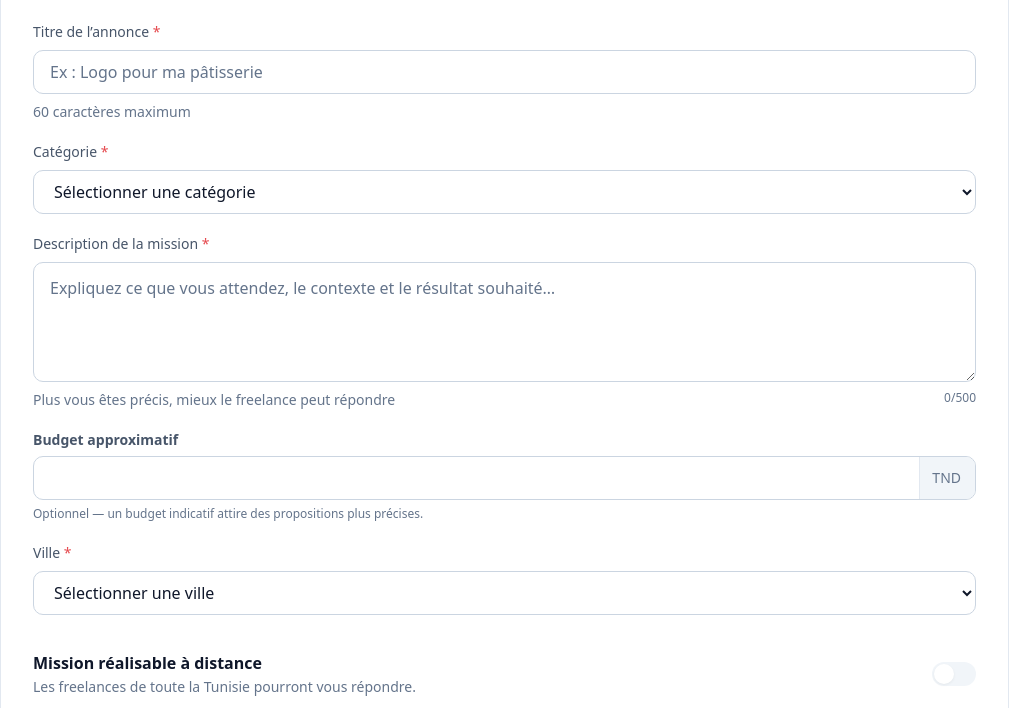
Test case: AnnonceForm — category is chosen, never pre-selected › starts on the placeholder, and submitting without choosing one is refused client-side
This screenshot has width=1024, height=708.
Expected: the dropdown labelled "Catégorie" shows "Sélectionner une catégorie", [33, 170, 976, 214]
Type "LOGO 3D" into the field labelled "Titre de l’annonce". click: [504, 72]
box: [50, 60, 959, 84]
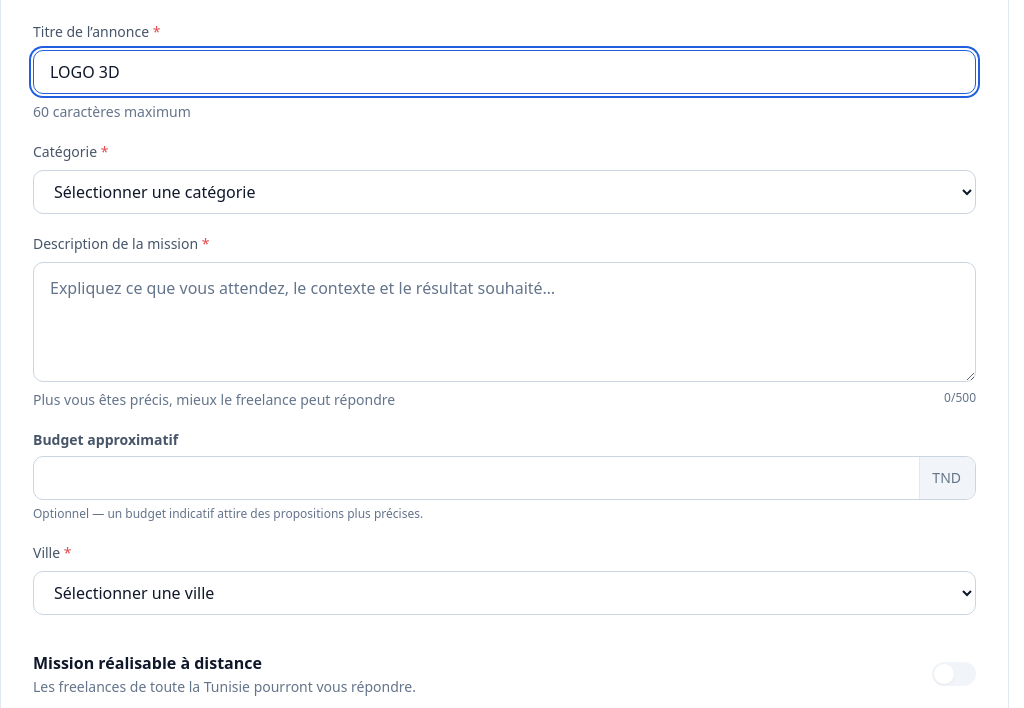
Type "Un logo" into the text box labelled "Description de la mission". click: [504, 322]
box: [33, 262, 976, 382]
(page scrolled)
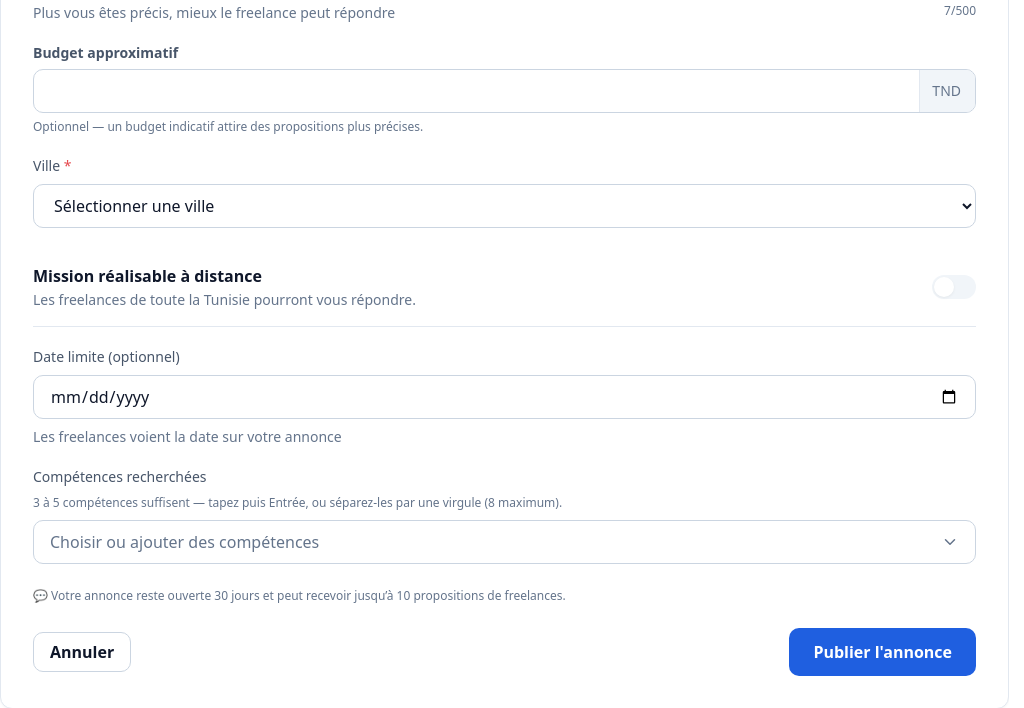
Click the button "Publier l'annonce". click: [883, 652]
box: [789, 628, 976, 676]
(page scrolled)
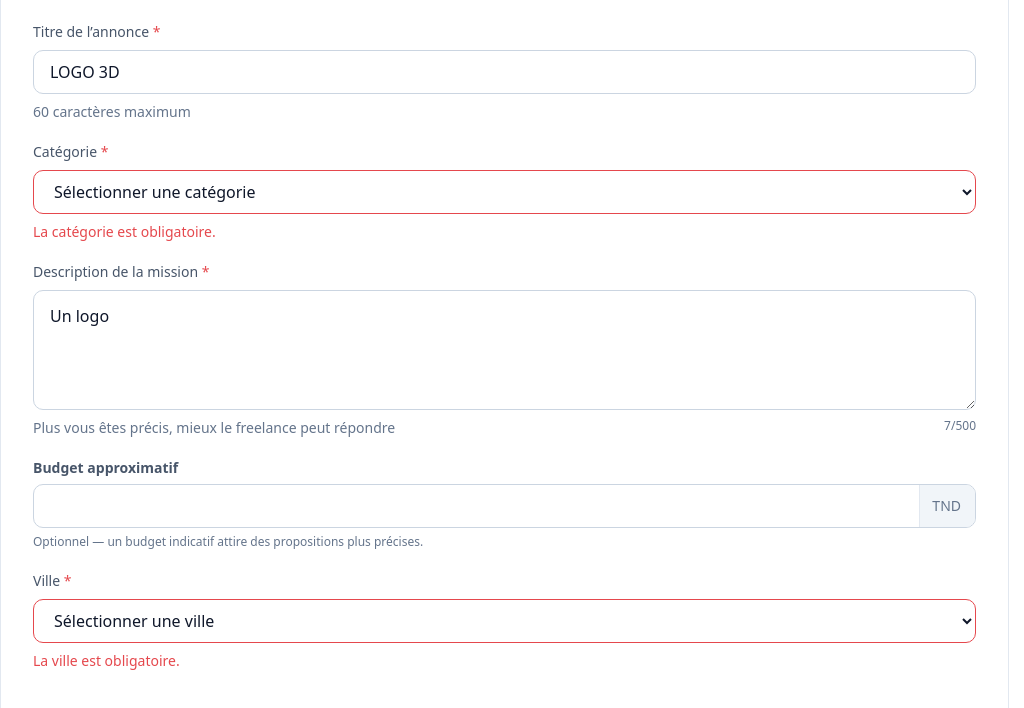
Now the text "La catégorie est obligatoire." is shown, box [33, 222, 216, 241]
